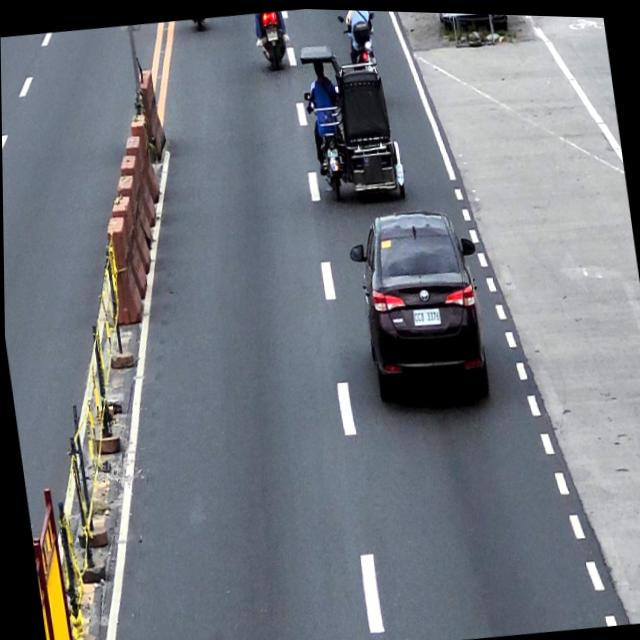Car: (345, 200, 495, 415)
License-Plate: (412, 304, 440, 325), (266, 27, 278, 39), (325, 145, 338, 156)
Motorcycle: (335, 8, 381, 63), (253, 8, 290, 67)
Tricycle: (297, 33, 408, 206)
